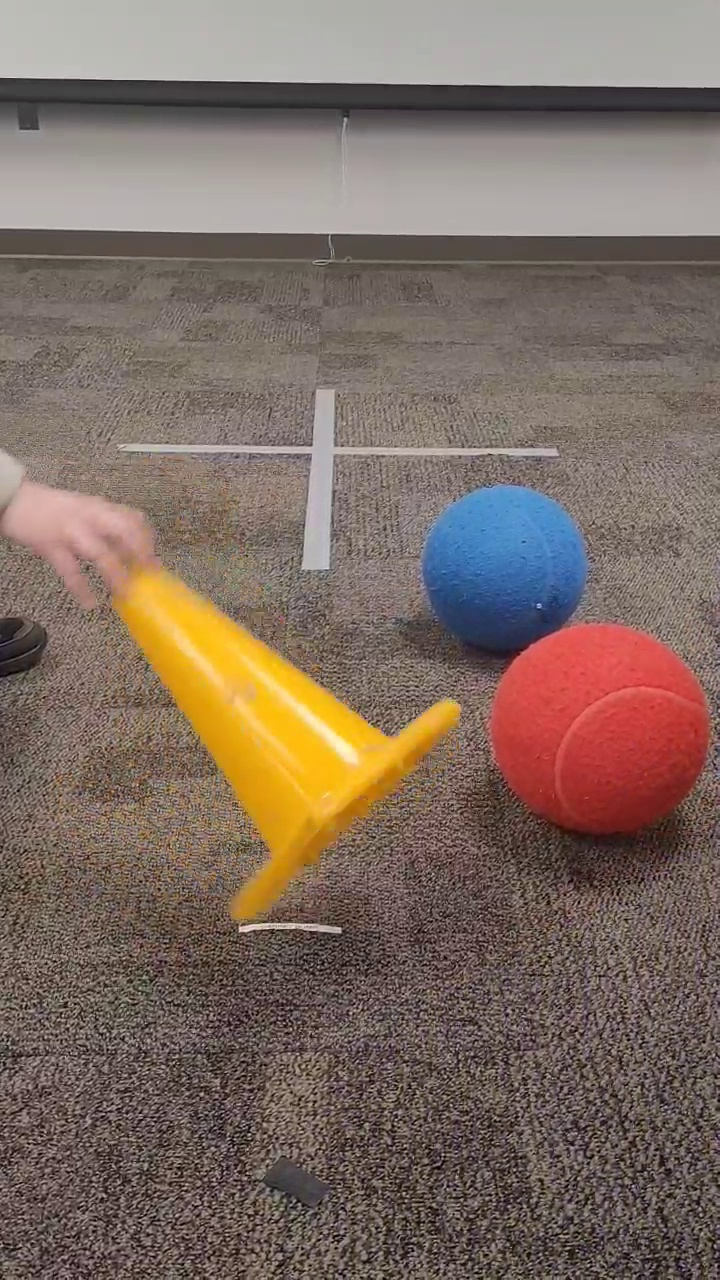ball: (488, 620, 712, 843), (420, 481, 589, 653)
cone: (108, 552, 460, 926)
foot: (1, 612, 51, 680)
hand: (1, 448, 165, 613)
